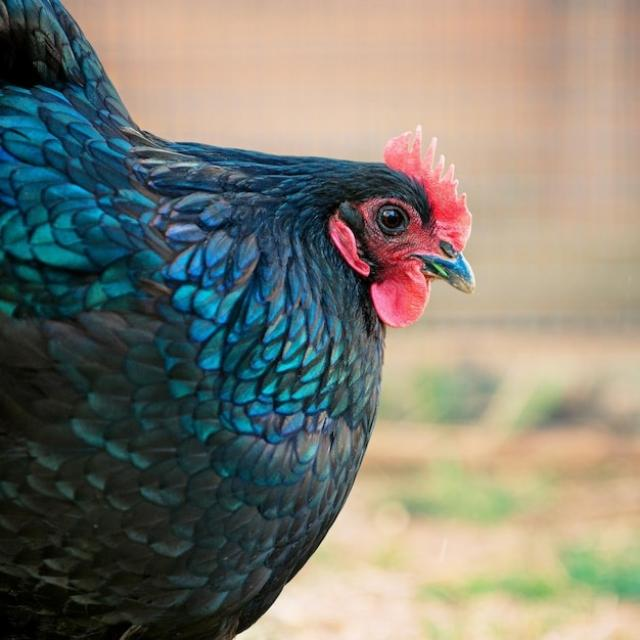Chicken: (0, 0, 478, 640)
